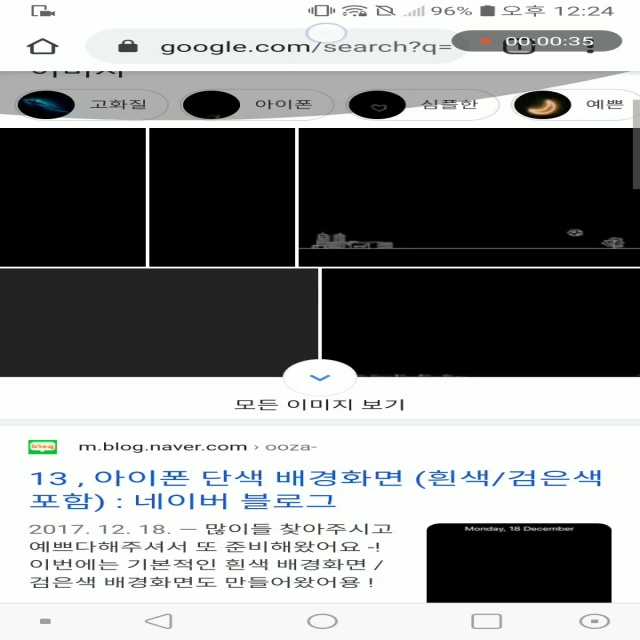Cursor: (305, 22, 350, 45)
